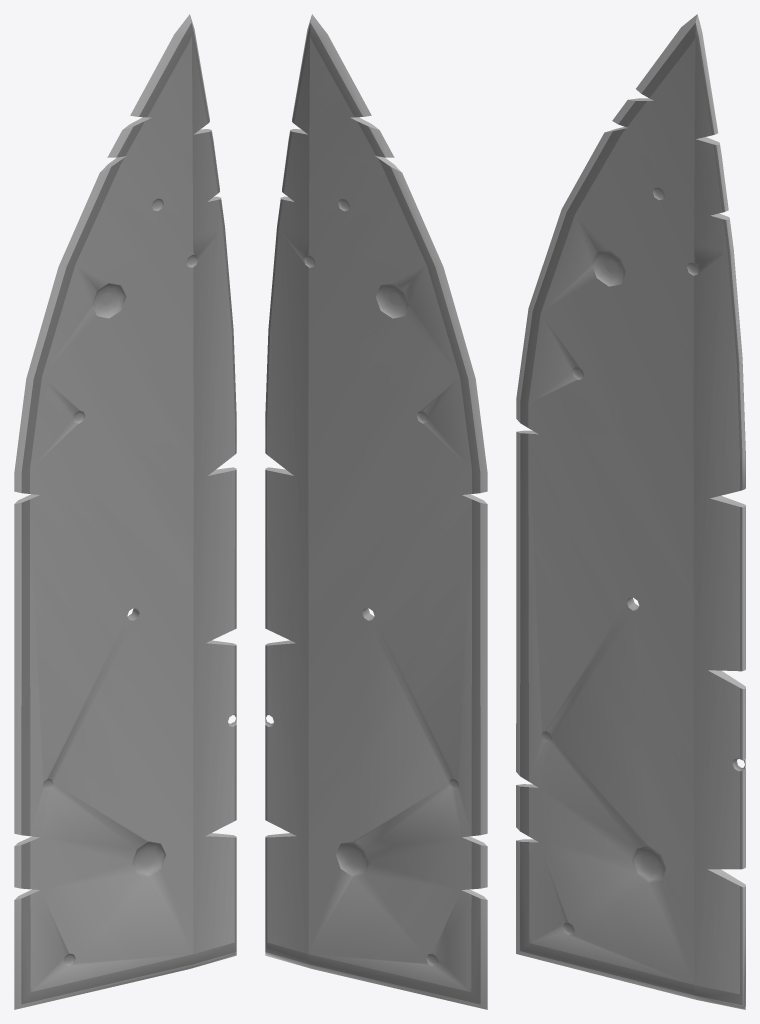
Rendered from stone_blade_bubbles_056.glb.
The picture shows the model from 3 angles, left to right: view 1: azimuth 30°, elevation 25°; view 2: azimuth 150°, elevation 25°; view 3: azimuth 330°, elevation 25°; orthographic projection. The views are drawn at different scales.
Visible parts, largest first — view 1: stone_blade_bubbles.056; view 2: stone_blade_bubbles.056; view 3: stone_blade_bubbles.056.
Part boxes in pixels (<box>): stone_blade_bubbles.056: <box>14,14,236,1009</box>; stone_blade_bubbles.056: <box>265,14,487,1009</box>; stone_blade_bubbles.056: <box>516,14,745,1009</box>.
Bounding box in the file's own units: 2.79 × 11.43 × 0.1594.
1 material, 1 textured.
